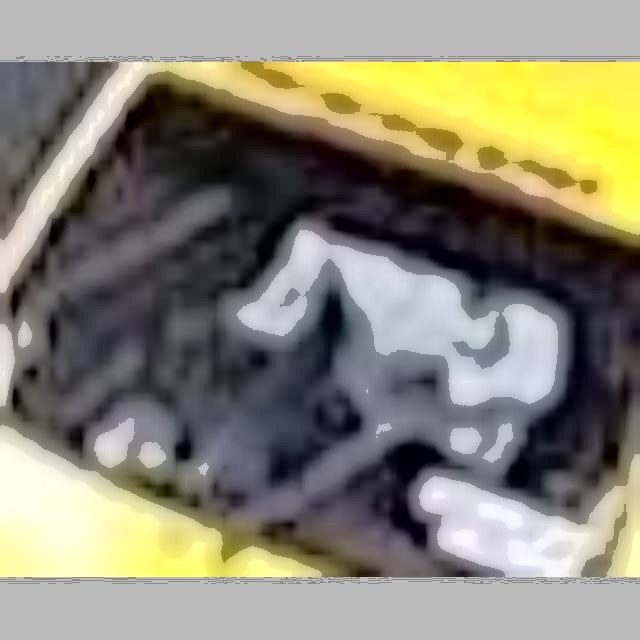tidak-pakai: (248, 196, 535, 482)
